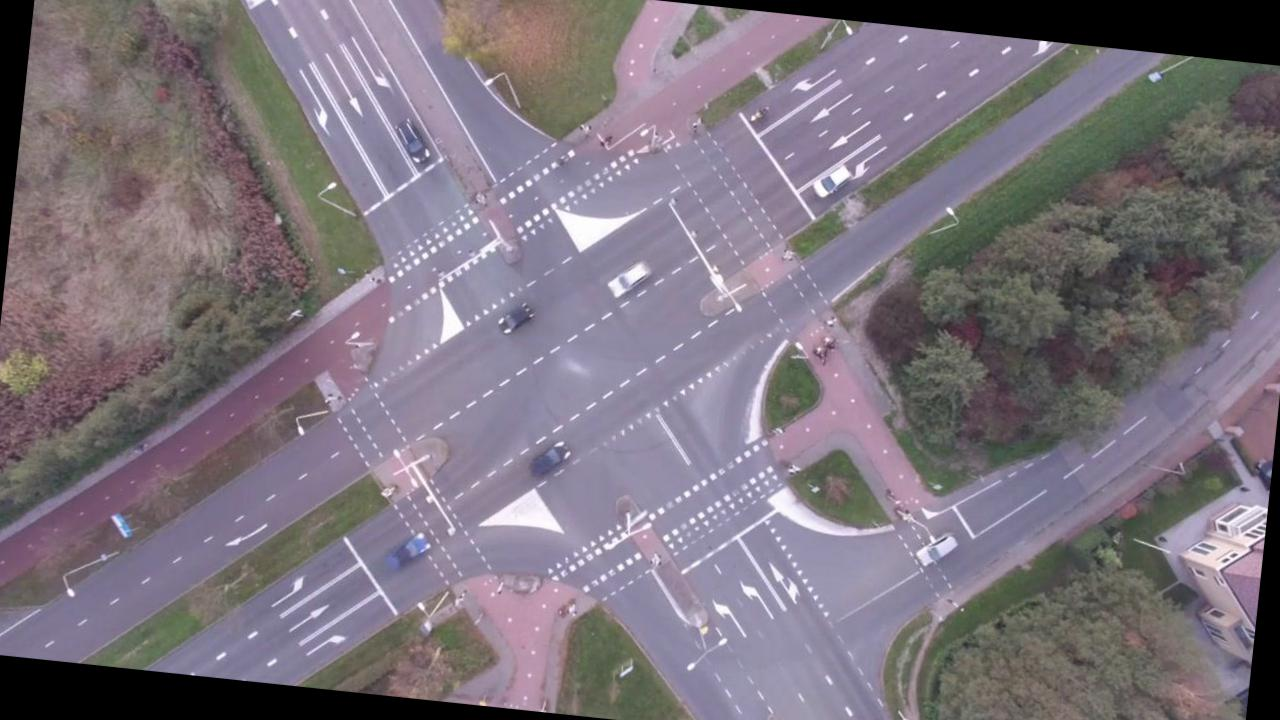vehicle: (389, 115, 434, 166), (606, 256, 654, 302), (526, 435, 572, 482), (384, 529, 433, 572), (912, 528, 960, 571), (808, 161, 854, 202), (494, 297, 538, 338)
